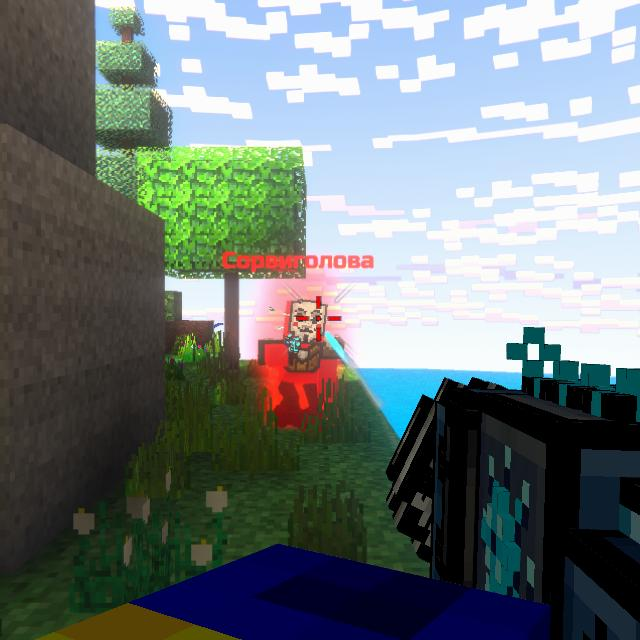Enemy: (258, 296, 345, 433)
